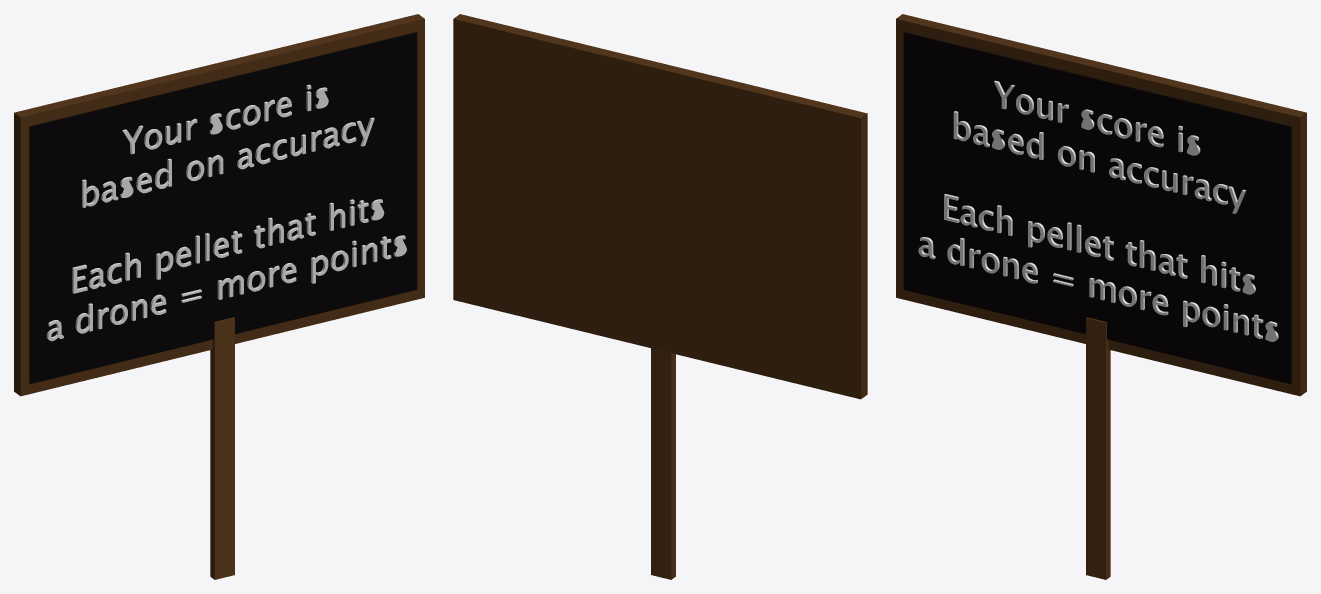
File: TutorialSign2.fbx
3 renders of one model, left to right at view 1: azimuth 30°, elevation 25°; view 2: azimuth 150°, elevation 25°; view 3: azimuth 330°, elevation 25°, orthographic.
Parts seen in each view (by area): view 1: typeMesh19; view 2: typeMesh19; view 3: typeMesh19.
Part boxes in pixels (<box>): typeMesh19: <box>14,14,424,579</box>; typeMesh19: <box>453,14,867,579</box>; typeMesh19: <box>896,14,1306,579</box>.
Size of the model in its own units: 154 by 185 by 6.08.
